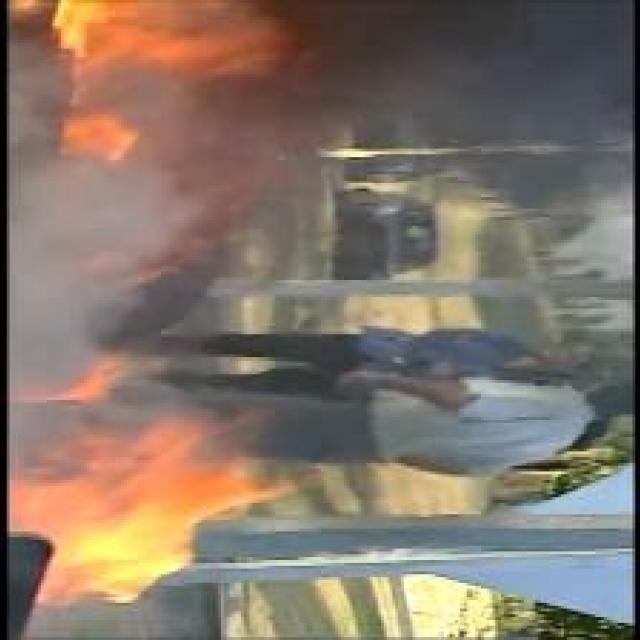Fire: (8, 357, 300, 609), (51, 0, 298, 166)
